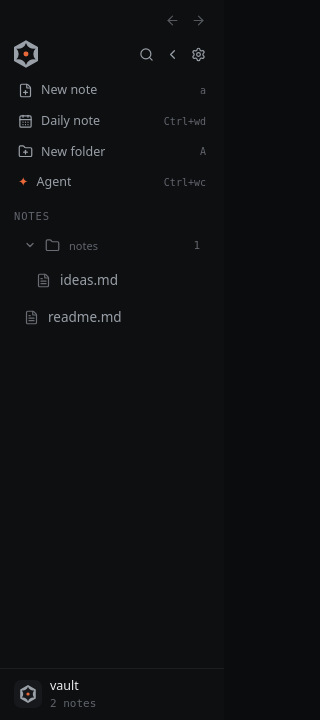
Scenario: SidebarContextMenu › opens for a row, suppresses the native menu, and moves the cursor to that row
Right-click the list item "notes".
right_click(30, 245)  # box [24, 238, 200, 253]
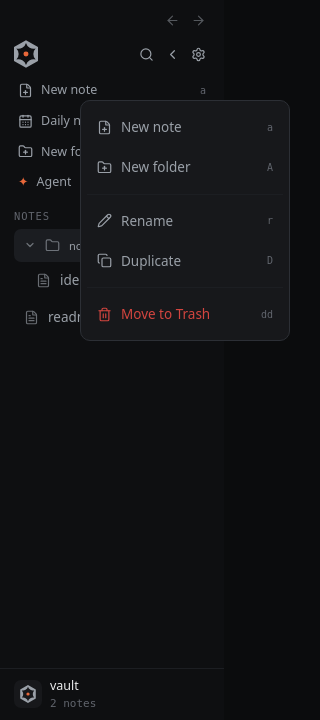
Expected: the menu named "Sidebar actions" is shown, [80, 100, 290, 341]
